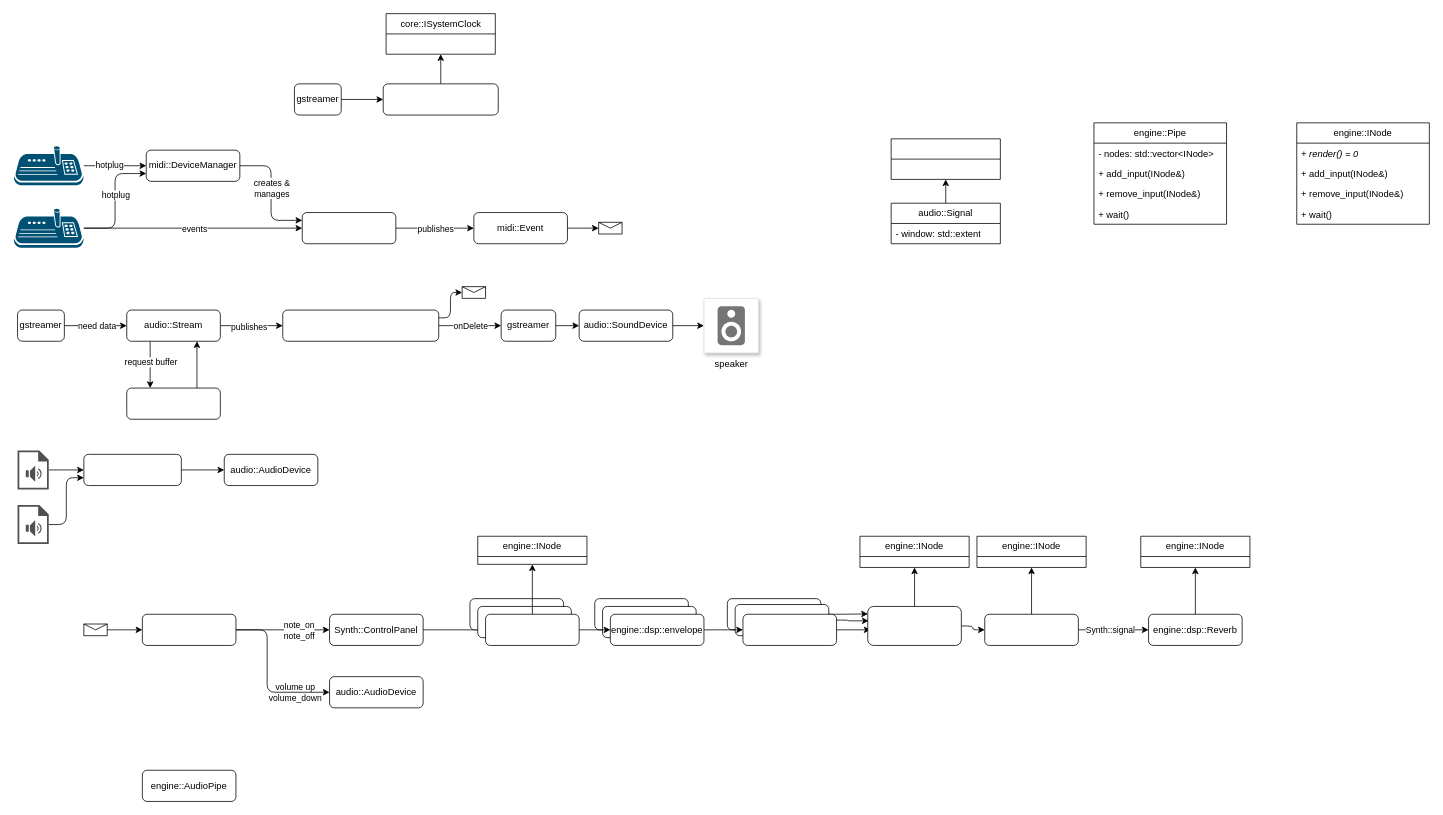
The diagram is 1443 pixels wide and 815 high, and some of its shapes have lost their labels. The centre of each missing label's shape, as x and y in pixels:
"audio::AudioManager" goes at (x=132, y=470).
"audio::BufferPool" goes at (x=173, y=403).
"core::Data" goes at (x=945, y=158).
"core::GStreamerClock" goes at (x=440, y=99).
"engine::dsp::Filter" goes at (x=1031, y=629).
"engine::dsp::saw" goes at (x=789, y=629).
"engine::MidiControls" goes at (x=189, y=629).
"engine::mixer" goes at (x=914, y=625).
"midi::InputDevice" goes at (x=348, y=228).
"std::shared_ptr<audio:: Signal >" goes at (x=360, y=325).
"Synth::Voice" goes at (x=532, y=629).
